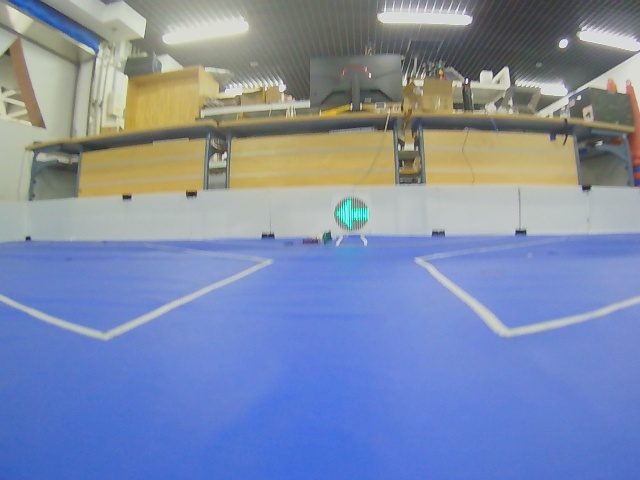left_green: (334, 197, 369, 231)
